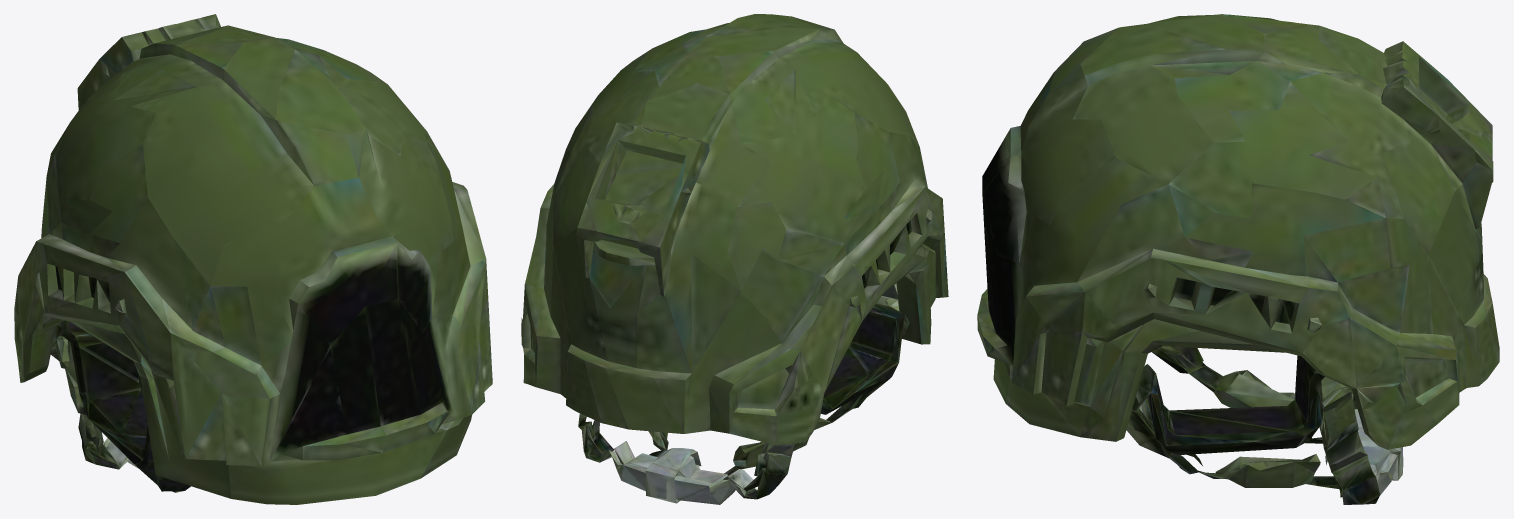
The model's file is helmet.glb.
The picture shows the model from 3 angles, left to right: view 1: azimuth 30°, elevation 25°; view 2: azimuth 150°, elevation 25°; view 3: azimuth 270°, elevation 25°; orthographic projection. The views are drawn at different scales.
Size of the model in its own units: 1.48 by 1.77 by 1.9.
1 material, 1 textured.
